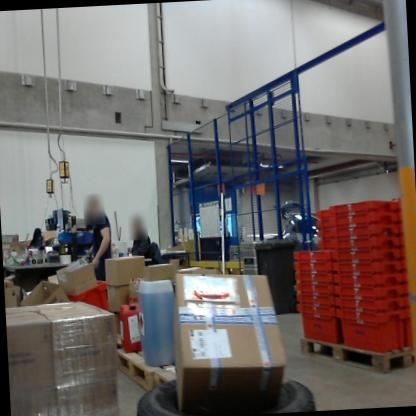pallet: (295, 325, 416, 380), (110, 324, 197, 398), (150, 363, 214, 401)
small_load_carrier: (335, 306, 406, 355), (288, 306, 339, 350), (335, 296, 404, 316), (336, 268, 401, 286), (328, 231, 389, 250), (335, 283, 401, 300), (331, 206, 390, 225), (335, 246, 393, 263), (287, 291, 335, 309), (335, 259, 394, 272), (325, 200, 387, 212), (331, 222, 388, 234), (291, 258, 333, 273), (294, 279, 334, 293), (290, 249, 334, 261), (308, 204, 340, 219), (294, 271, 334, 281), (387, 245, 411, 260), (314, 217, 339, 230), (386, 232, 407, 246), (385, 198, 404, 211), (386, 221, 406, 233), (386, 210, 405, 222), (314, 229, 331, 241), (394, 259, 411, 269), (395, 269, 407, 282), (317, 240, 331, 248)
